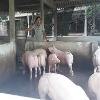heo: (39, 72, 85, 100), (21, 50, 38, 79), (50, 44, 75, 59), (35, 46, 48, 72), (88, 65, 99, 93), (49, 53, 61, 72), (89, 47, 100, 64)
